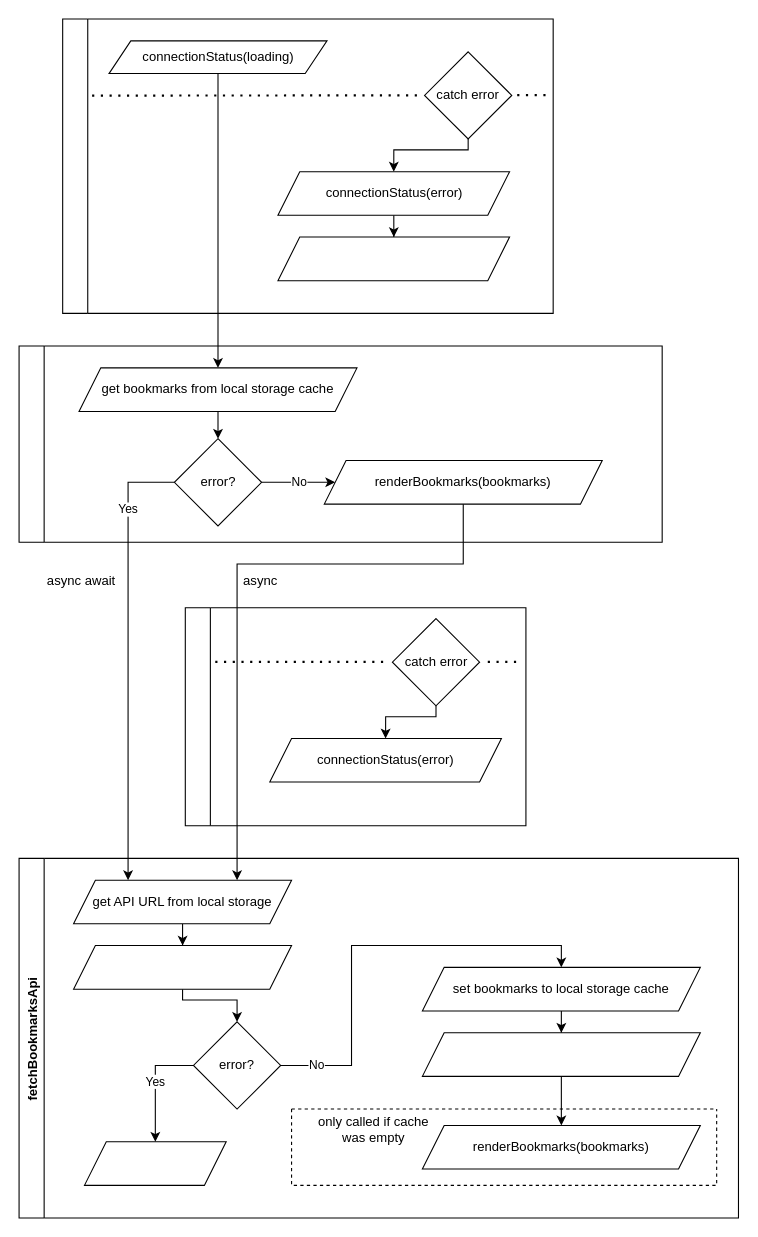
This 758x1237 diagram has some shape labels left out. The box of each missing label's shape, as (x1, y1, x2, y2) in pixels:
catchFetchBookmarksAPI: (184, 607, 526, 826)
connectionStatus(success): (421, 1032, 700, 1076)
fetch bookmarks API: (72, 944, 292, 989)
fetchBookmarksCache: (18, 345, 662, 542)
init: (62, 18, 553, 313)
show noConnection error: (277, 236, 510, 281)
throw error: (83, 1141, 226, 1185)
